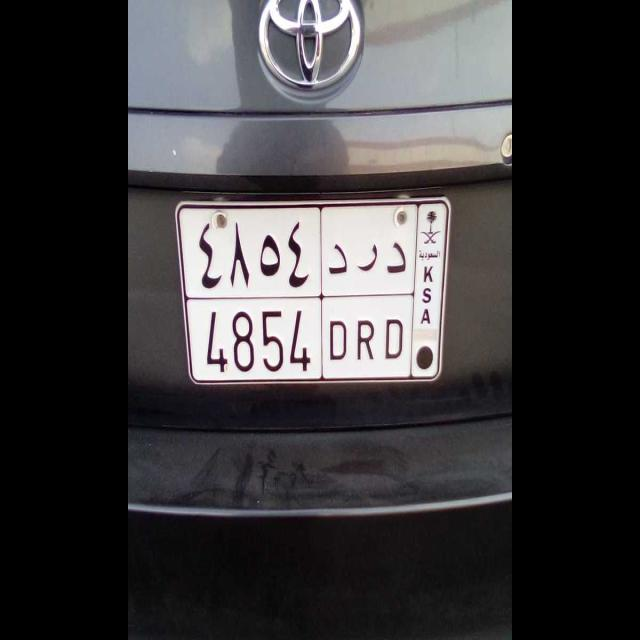license_plate: (183, 296, 414, 384)
